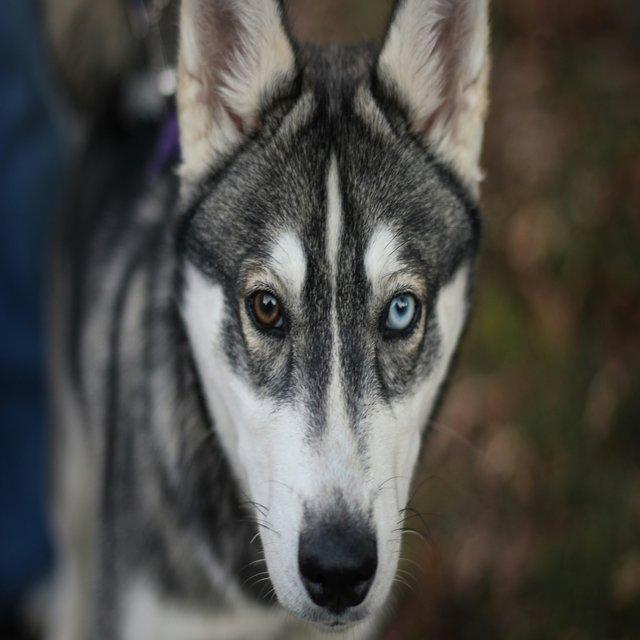husky: (25, 0, 494, 639)
